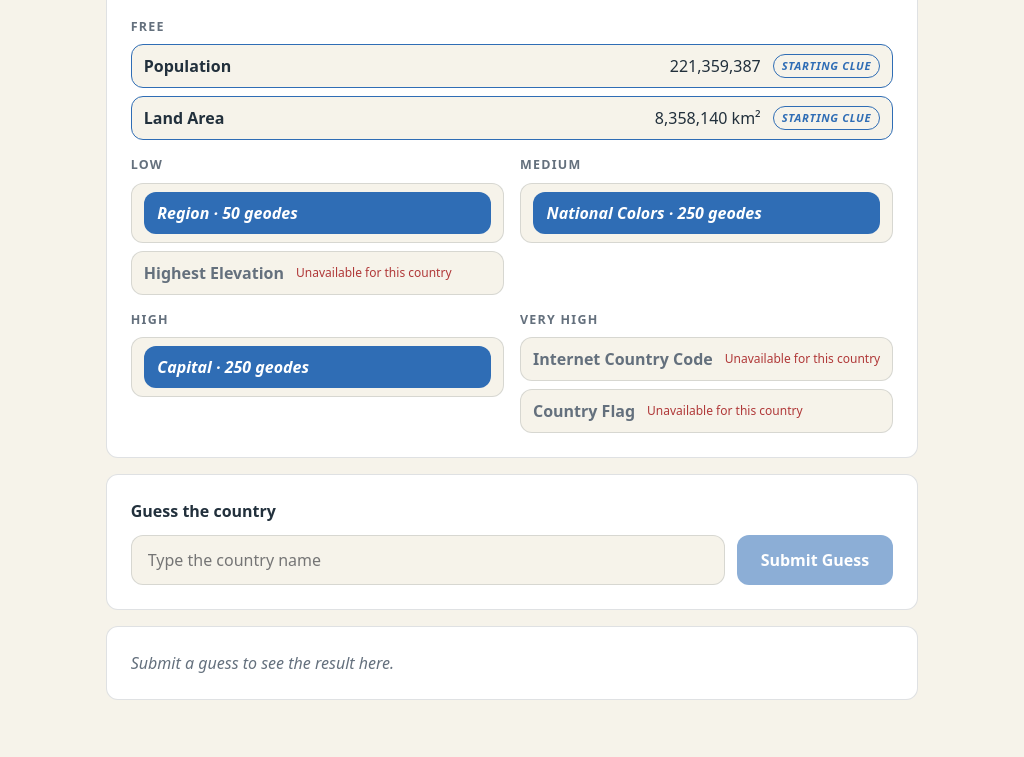
GameScreen › reports the geode reward on a correctly solved turn
(page scrolled)
Type "Brazil" into the field labelled "Guess the country" at (428, 560), box [131,535,725,585]
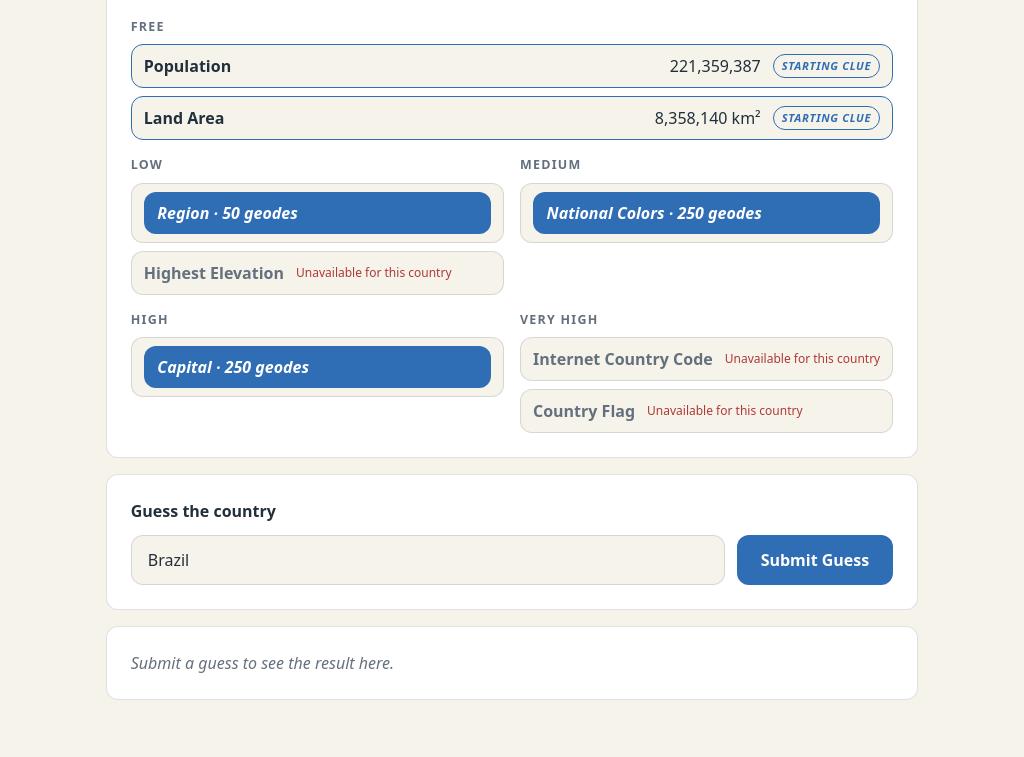
Click the button "Submit Guess" at (815, 560), box [737,535,893,585]
(page scrolled)
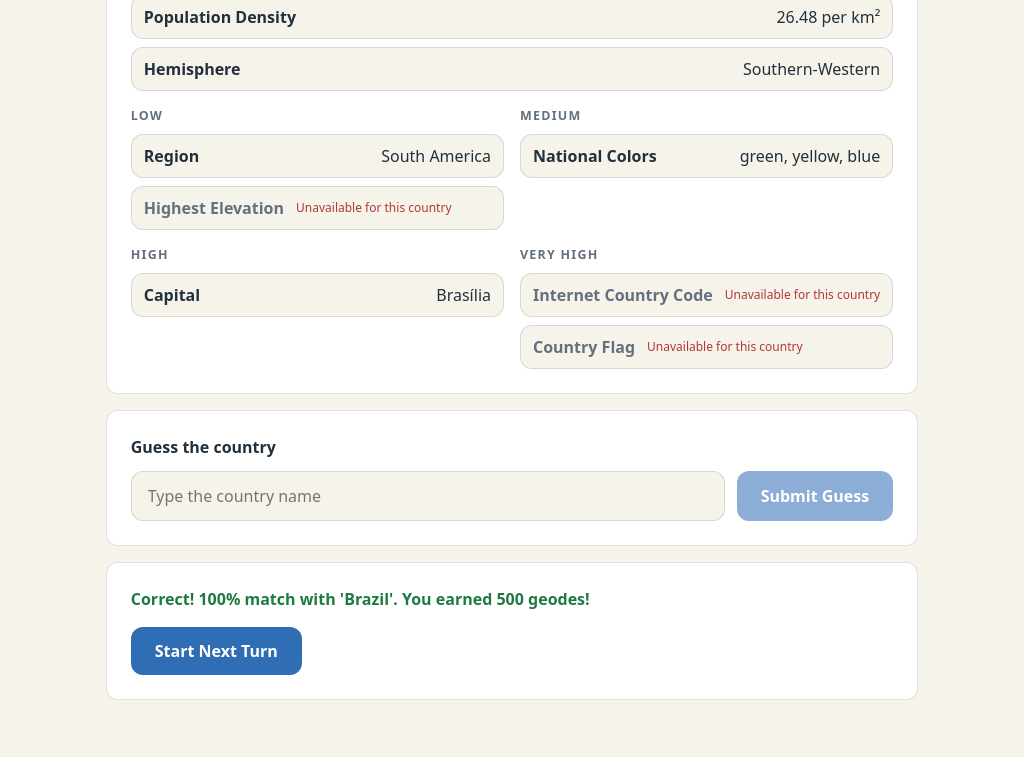
Now the text "Correct! 100% match with 'Brazil'. You earned 500 geodes!" is shown, box [131,588,590,610]
